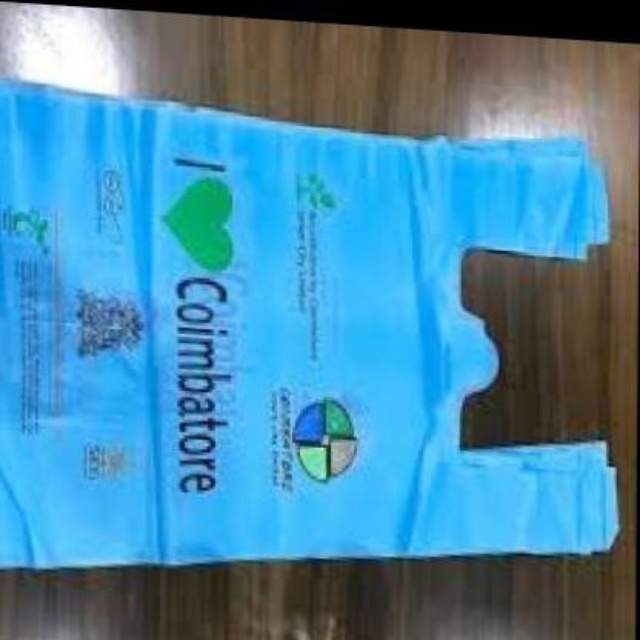trash: (0, 80, 617, 566)
